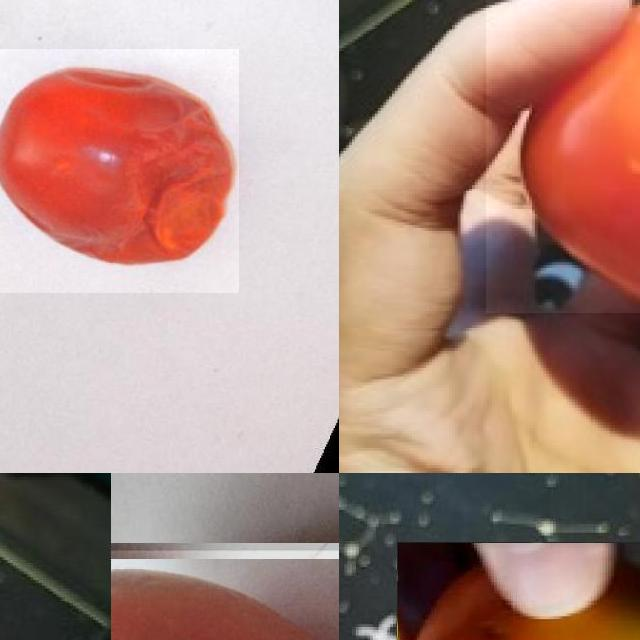0: (486, 0, 640, 313)
1: (111, 550, 339, 640)
Rotten Tomato: (0, 49, 239, 293), (397, 542, 640, 640)
